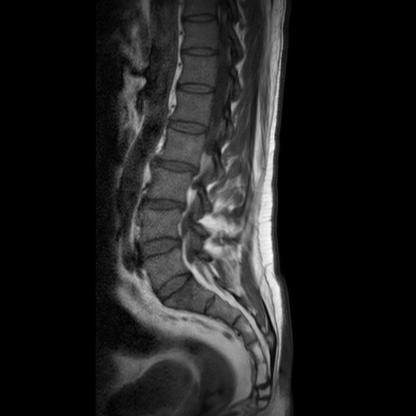Degenerative Disc Diseaserotation: (143, 196, 187, 215), (155, 158, 199, 175)
Disc Bulgerotation: (140, 238, 183, 258), (142, 196, 187, 214), (155, 158, 199, 175)
